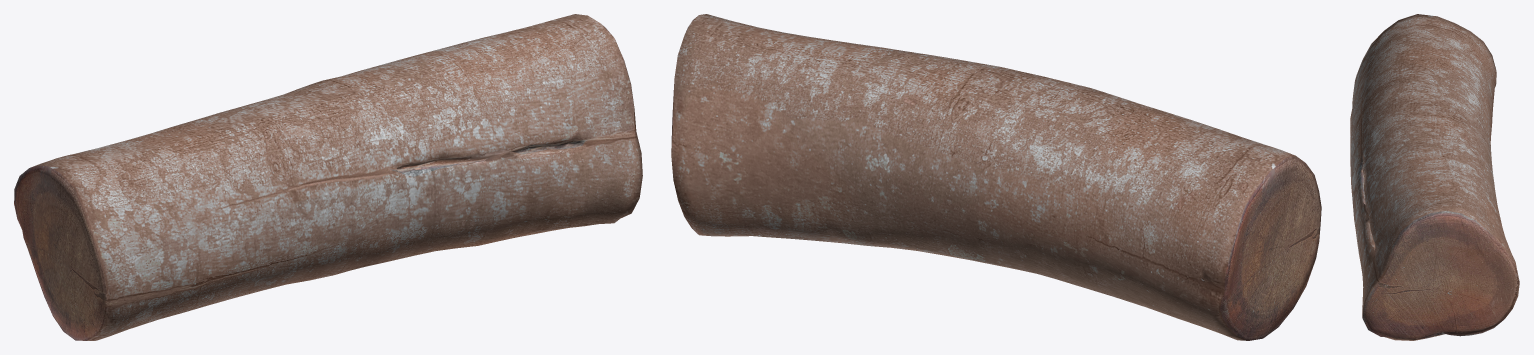
The model's file is Fir_Log.fbx.
3 renders of one model, left to right at view 1: azimuth 30°, elevation 25°; view 2: azimuth 150°, elevation 25°; view 3: azimuth 270°, elevation 25°, orthographic. The views are drawn at different scales.
Visible parts, largest first — view 1: Fir_Log_Baked; view 2: Fir_Log_Baked; view 3: Fir_Log_Baked.
Boxes of the visible parts, x1,y1,x2,y2 form: Fir_Log_Baked: (14, 14, 642, 340); Fir_Log_Baked: (671, 14, 1321, 340); Fir_Log_Baked: (1350, 14, 1519, 340).
Size of the model in its own units: 1.21 by 0.4139 by 0.3764.
1 material, 1 textured.
